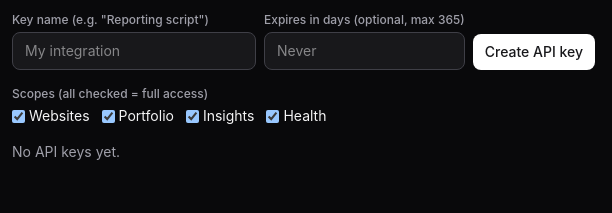
Scenario: gap closure: json parse failures and busy guards › creates with an unparseable error body falling back to request_failed
The width and height of the screenshot is (612, 213).
In the field labelled "Key name (e.g. \"Reporting script\")": [134, 51] box [12, 32, 256, 70], type "Key"
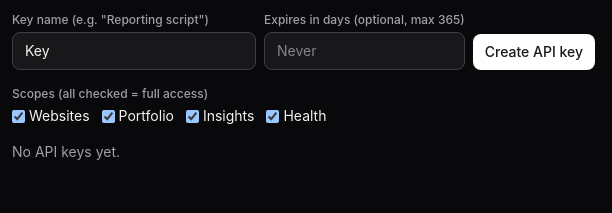
Click the button "Create API key": [534, 52] box [473, 34, 595, 70]
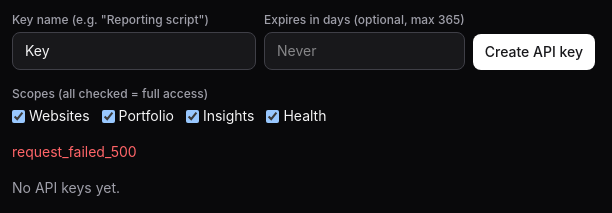
Expected: the message reads "request_failed_500", [12, 143, 137, 160]
